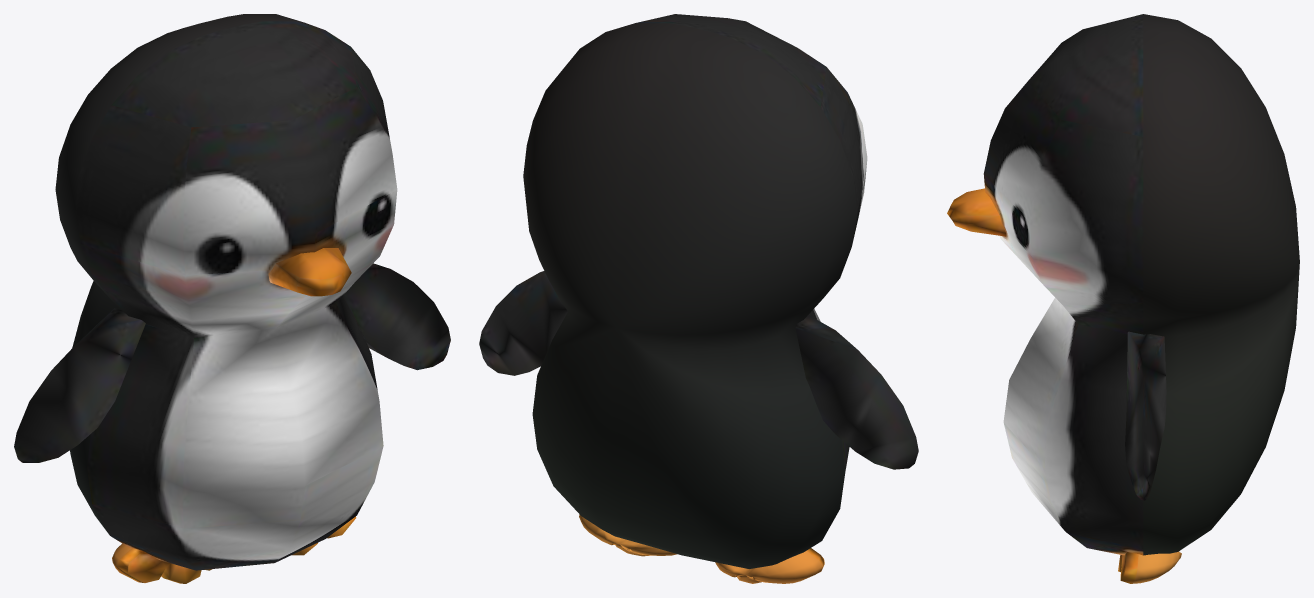
Rendered from penguin-04-11-classic-black-white-crochet-penguin.gltf.
The picture shows the model from 3 angles, left to right: view 1: azimuth 30°, elevation 25°; view 2: azimuth 150°, elevation 25°; view 3: azimuth 270°, elevation 25°; orthographic projection. The views are drawn at different scales.
Visible parts, largest first — view 1: penguin-04-11-classic-black-white-crochet-penguin; view 2: penguin-04-11-classic-black-white-crochet-penguin; view 3: penguin-04-11-classic-black-white-crochet-penguin.
Part boxes in pixels (bbox=[...]): penguin-04-11-classic-black-white-crochet-penguin: bbox=[14, 14, 450, 583]; penguin-04-11-classic-black-white-crochet-penguin: bbox=[479, 14, 918, 583]; penguin-04-11-classic-black-white-crochet-penguin: bbox=[947, 14, 1299, 583].
Bounding box in the file's own units: 0.2 × 0.2346 × 0.1465.
1 material, 1 textured.
